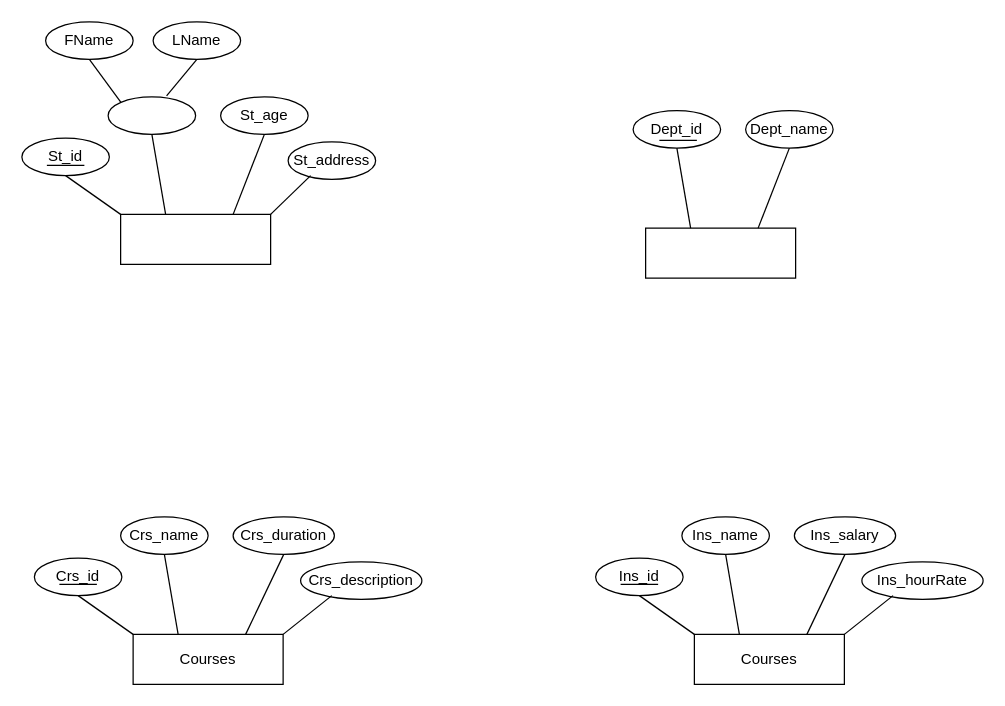
Image size: 1005x706. Some labels were removed from this diagram. The shapes that lost their labels are listed below. From the top down, each one's centre as x and y in pixels, then its label:
the point at 151,115: St_name
the point at 195,238: Students
the point at 720,252: Departments
